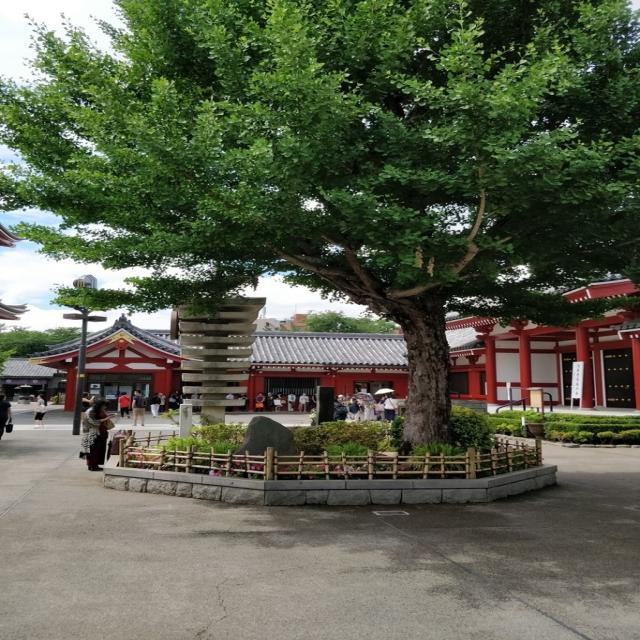ginkgo: (0, 0, 640, 450)
